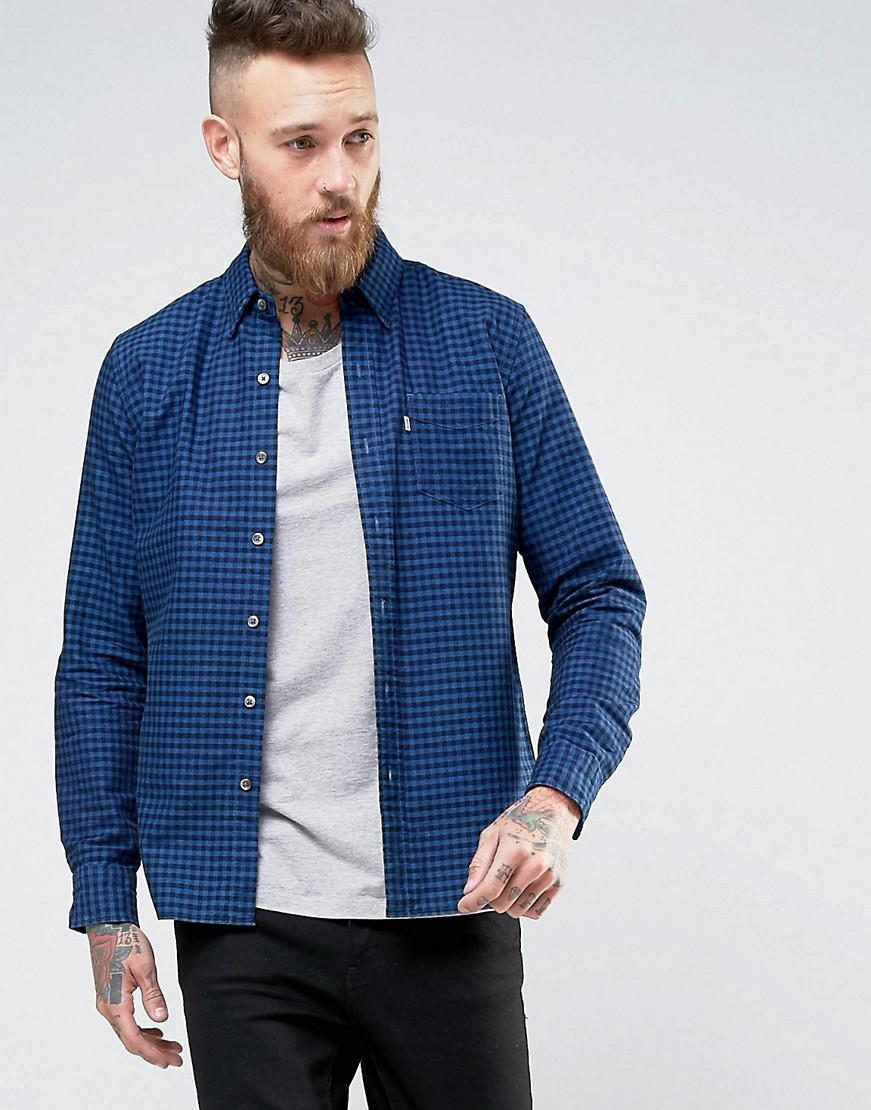teeshirt: (46, 224, 662, 962)
